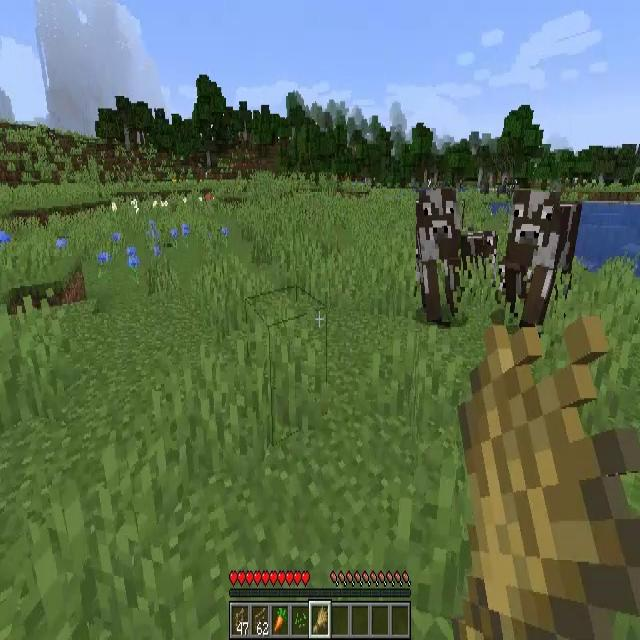cow: (505, 191, 580, 318), (417, 188, 462, 322), (461, 231, 496, 287)
flower: (126, 247, 138, 274), (98, 252, 110, 278), (110, 232, 120, 252)
